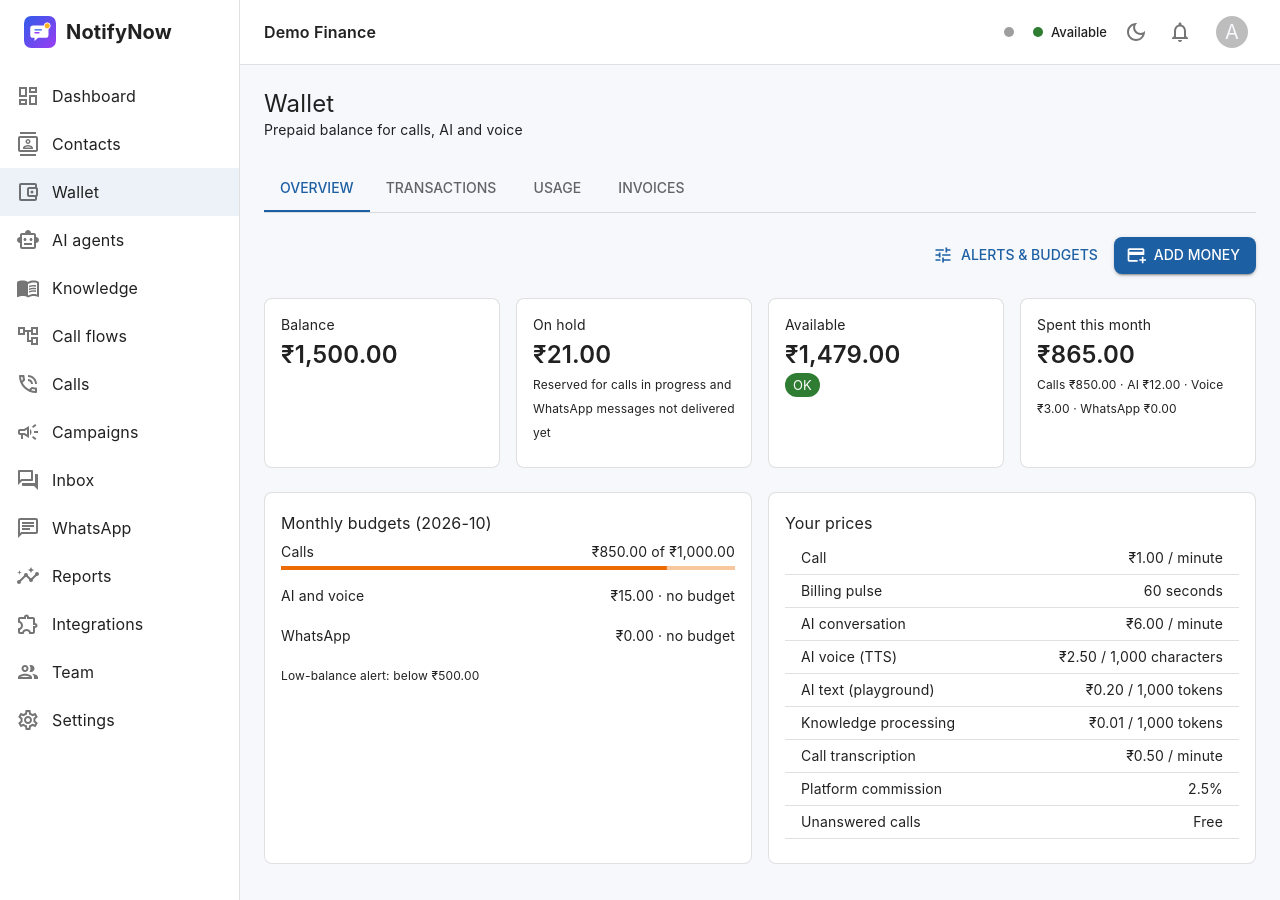
Test: wallet overview › saves alerts and budgets in micros and validates rupees
Click the button "Alerts & budgets" at (1017, 255), box [929,237,1106,274]
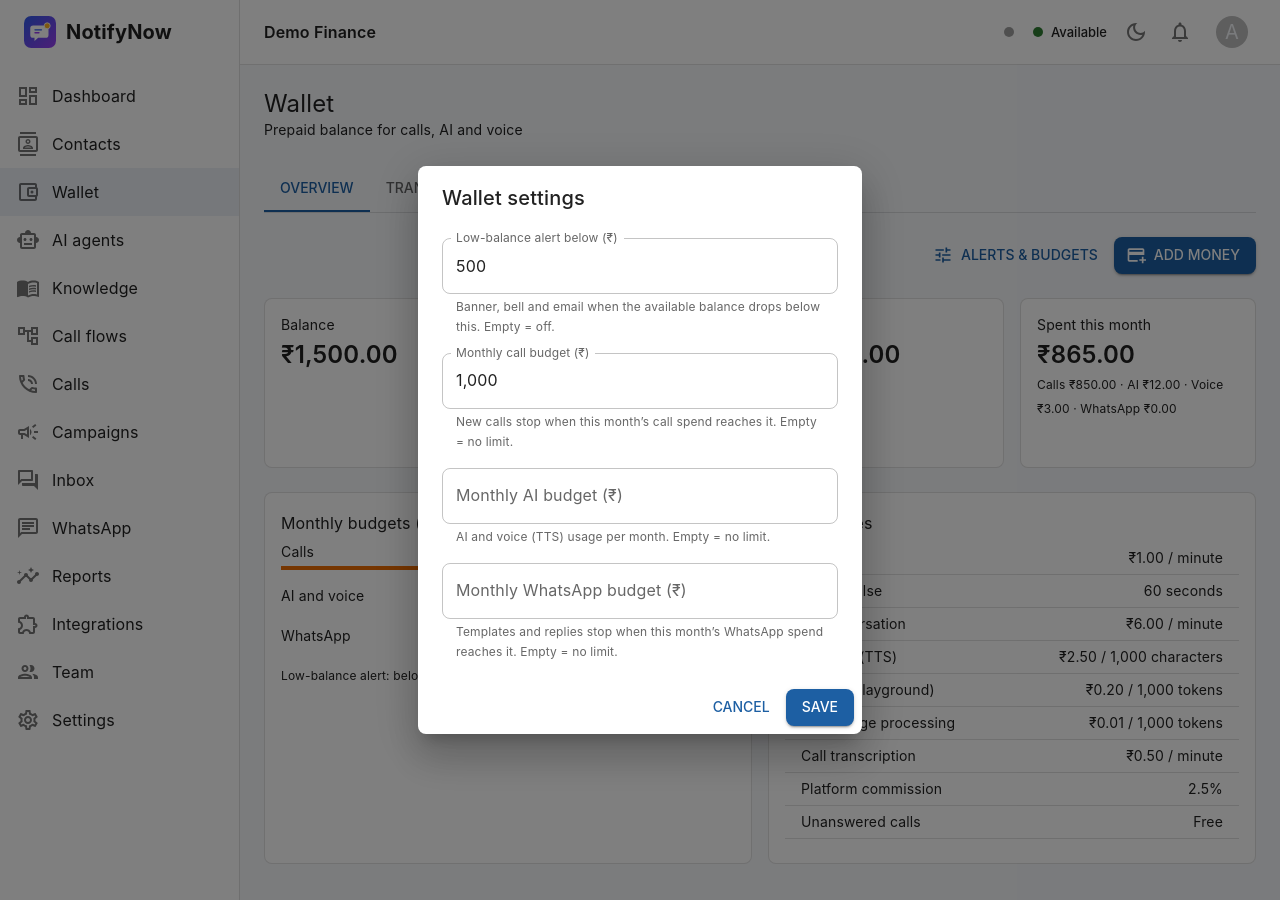
Expected: the field labelled "Low-balance alert below (₹)" holds "500"
Replace the text in the field labelled "Low-balance alert below (₹)" with "7,50.5" at (640, 266), box [442,238,838,294]
Click the button "Save" at (820, 708), box [786,689,854,726]
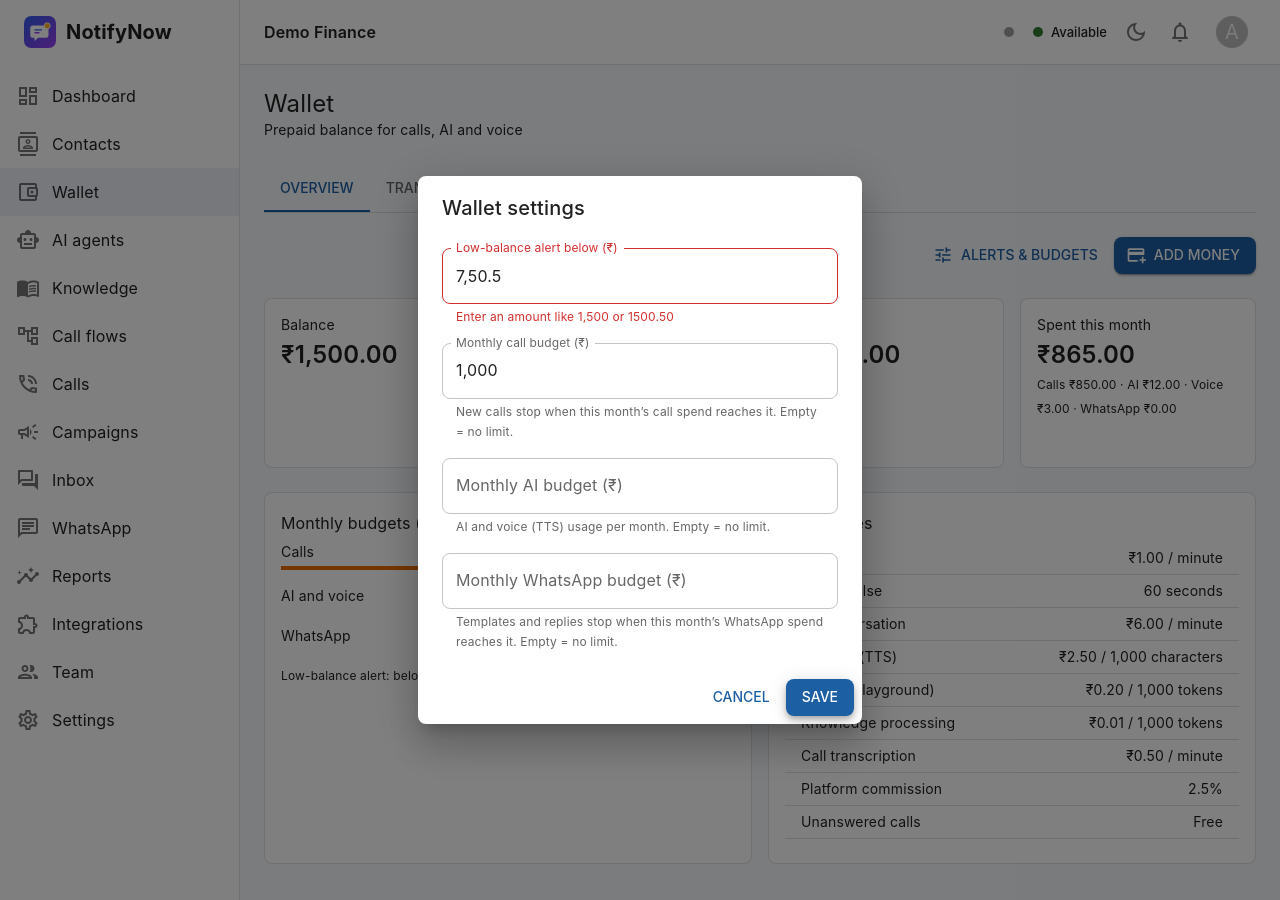
Expected: the text "Enter an amount like 1,500 or 1500.50" is shown, [456,309,674,324]
Clear the field labelled "Low-balance alert below (₹)" at (640, 276), box [442,248,838,304]
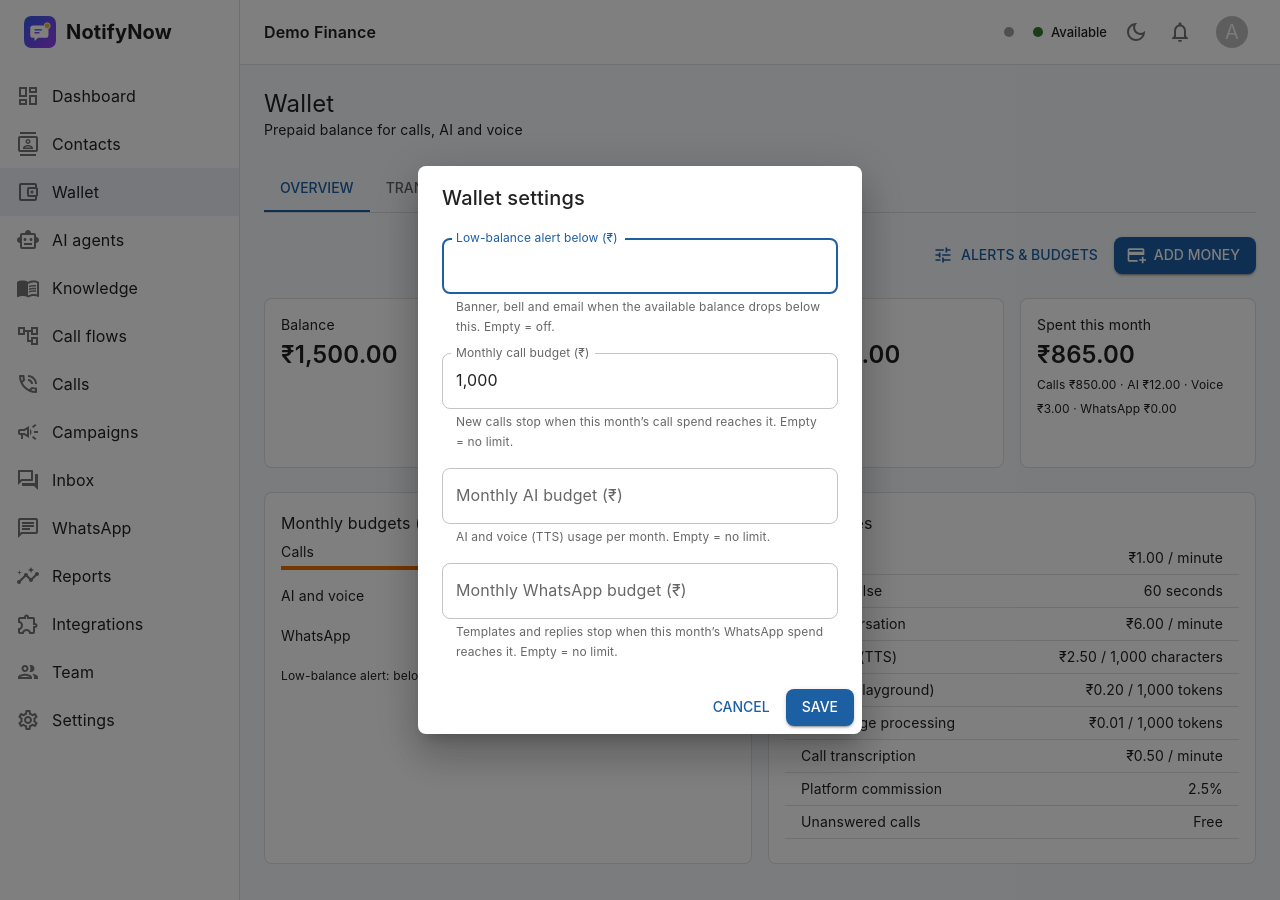
Type "750" into the field labelled "Low-balance alert below (₹)" at (640, 266), box [442,238,838,294]
Clear the field labelled "Monthly call budget (₹)" at (640, 381), box [442,353,838,409]
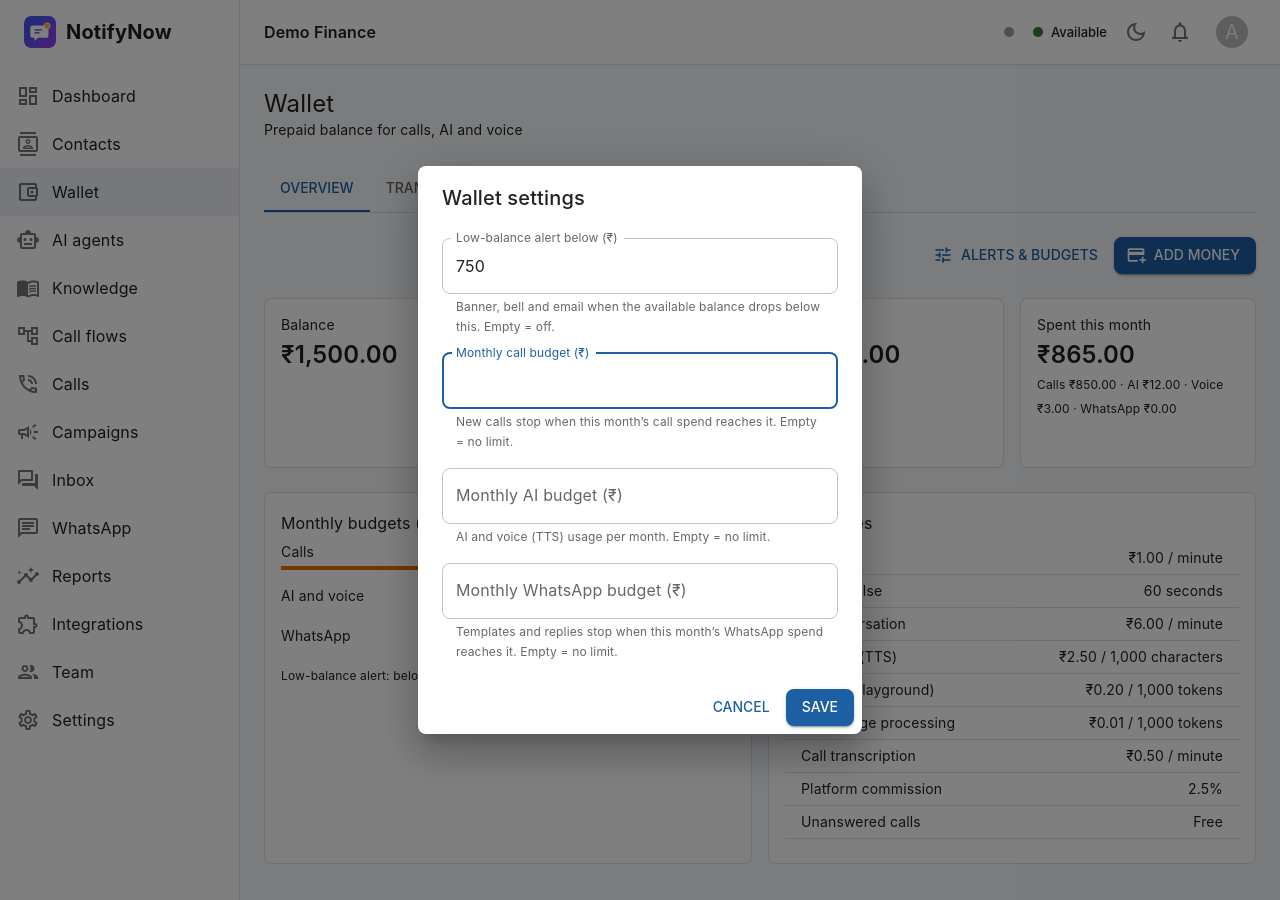
Type "2,000.25" into the field labelled "Monthly AI budget (₹)" at (640, 496), box [442,468,838,524]
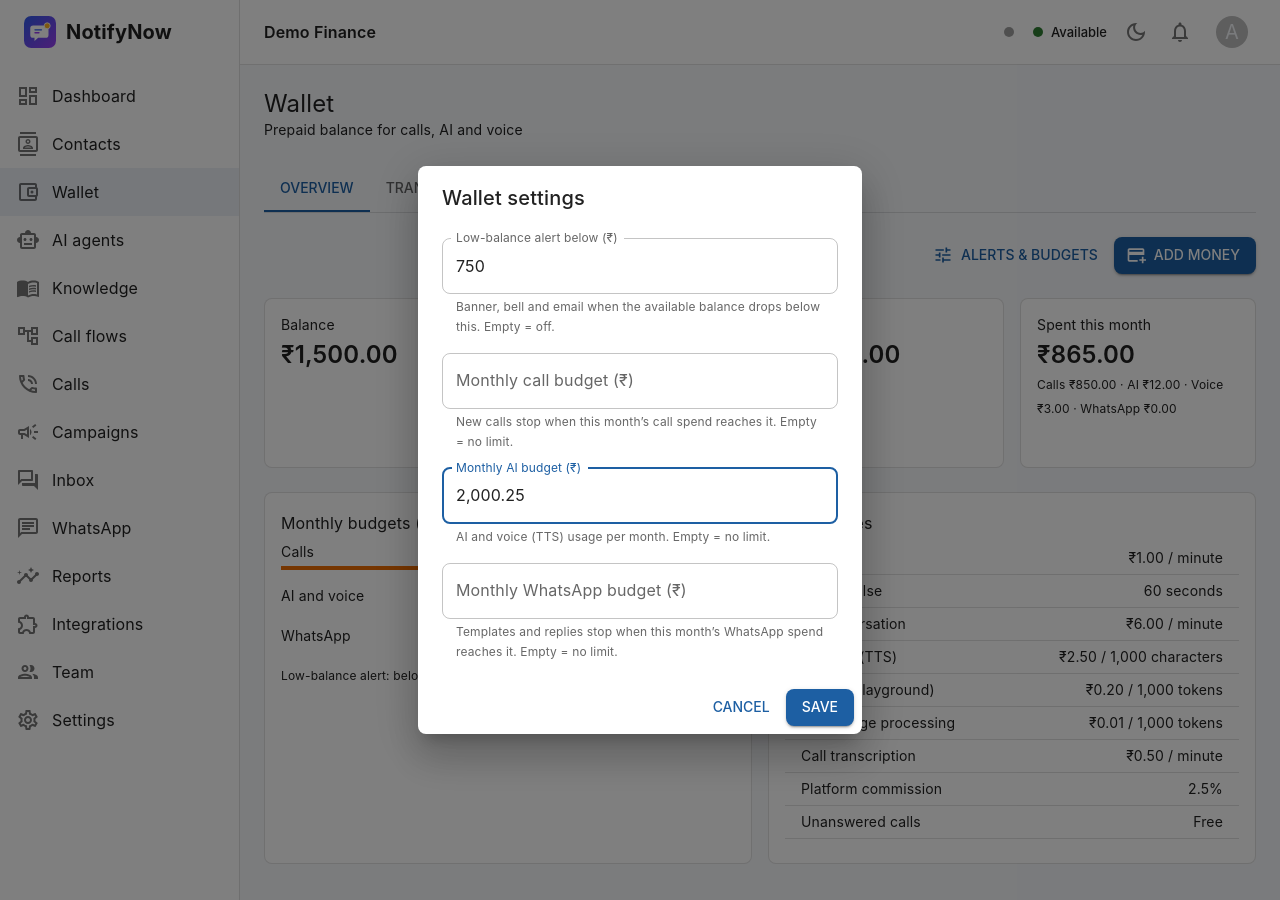
Click the button "Save" at (820, 708), box [786,689,854,726]
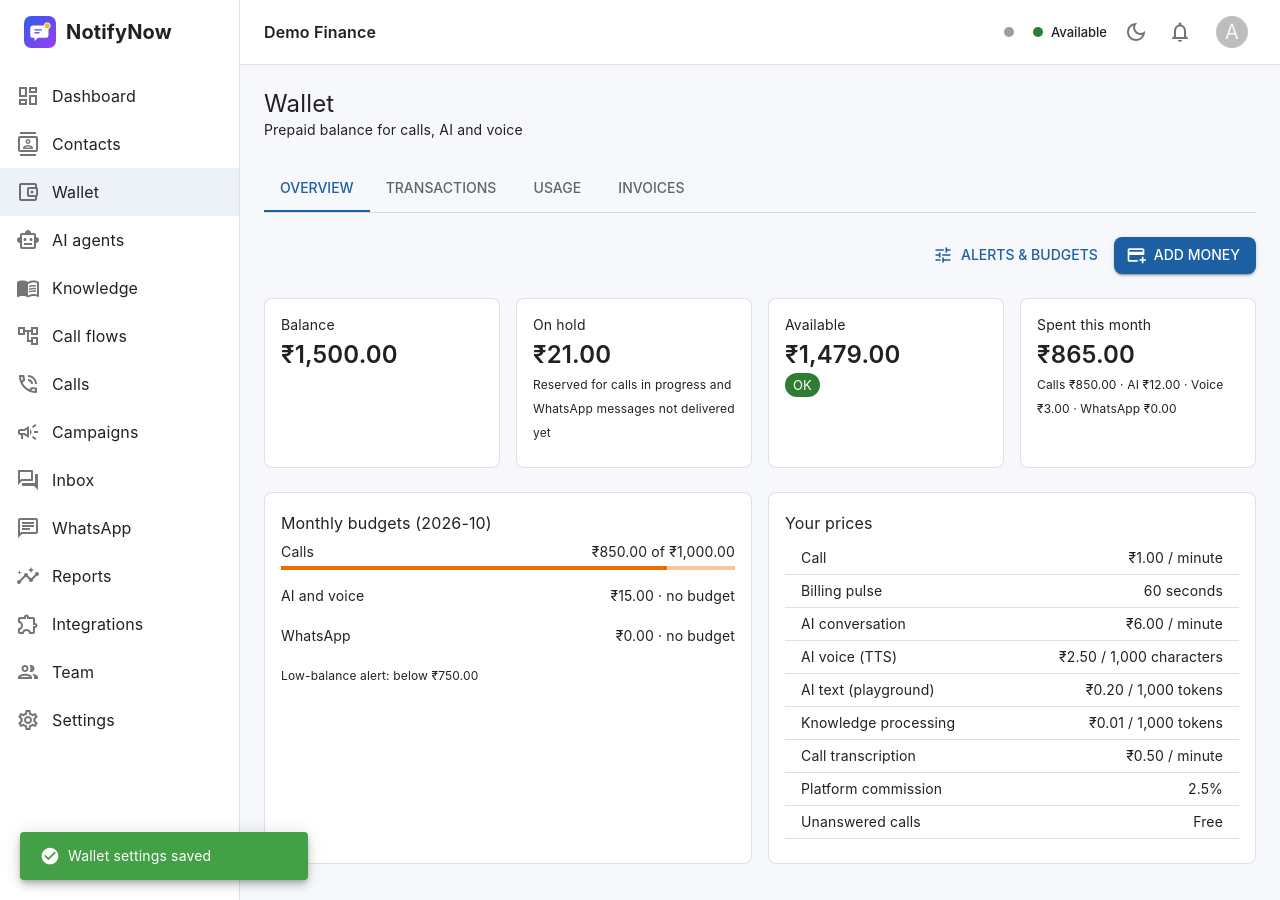
Expected: the text "Wallet settings saved" is shown, [40,846,211,866]
